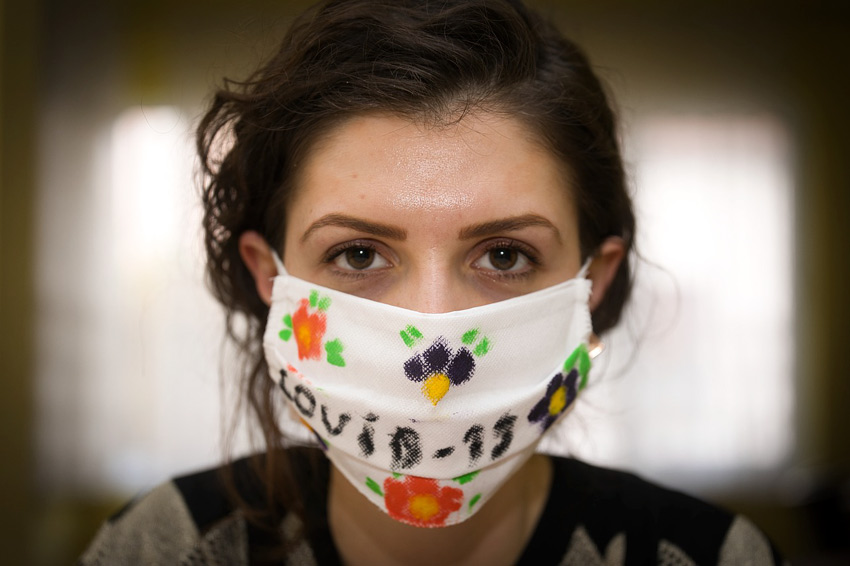with_mask: (221, 21, 645, 536)
